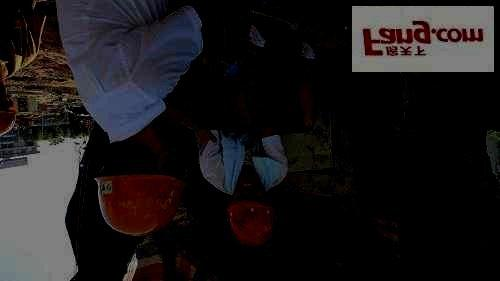helmet: (93, 125, 184, 236), (227, 176, 274, 247), (1, 92, 18, 138)
